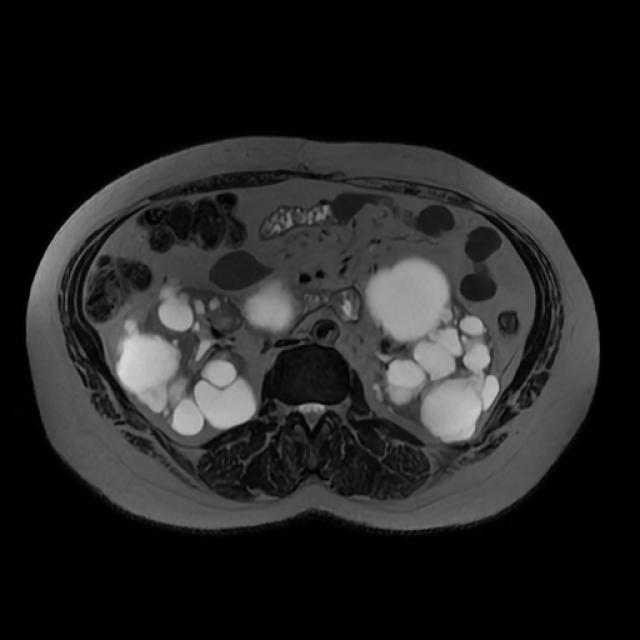sag: (112, 276, 300, 437)
sol: (363, 256, 502, 443)
